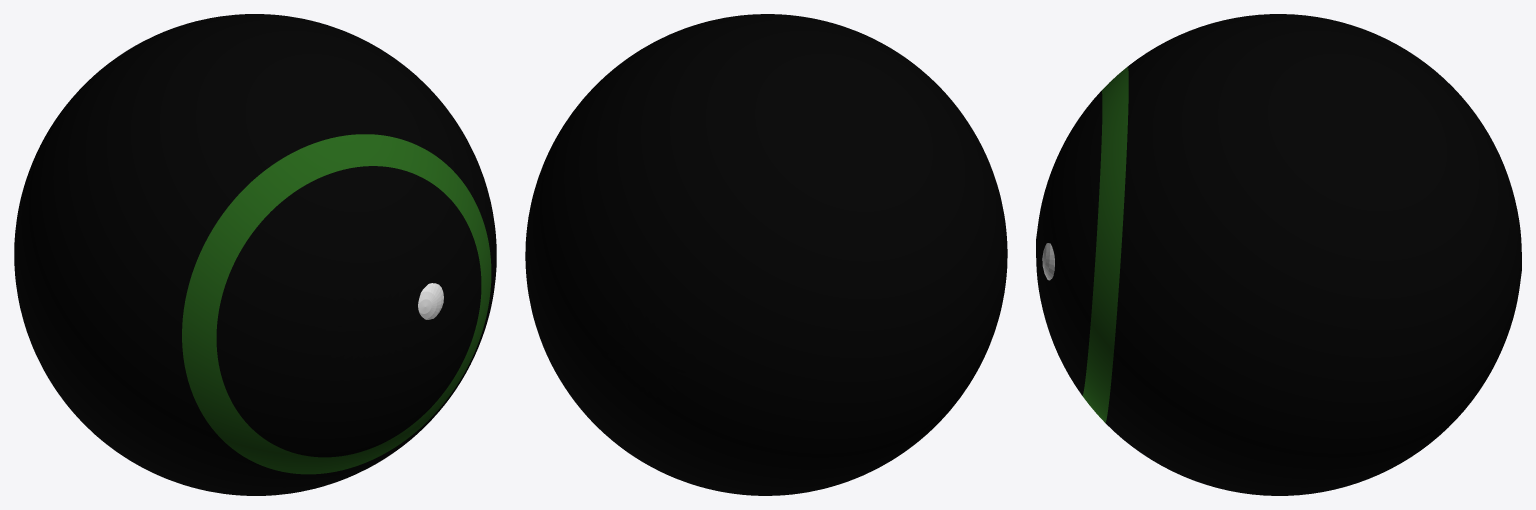
The model's file is cat-eye-right.glb.
3 renders of one model, left to right at view 1: azimuth 30°, elevation 25°; view 2: azimuth 150°, elevation 25°; view 3: azimuth 270°, elevation 25°, orthographic.
Visible parts, largest first — view 1: kitten eye right, kitten eye right white; view 2: kitten eye right; view 3: kitten eye right.
Boxes of the visible parts, <box> form: kitten eye right: <box>14,14,496,495</box>; kitten eye right white: <box>418,283,443,319</box>; kitten eye right: <box>525,14,1007,495</box>; kitten eye right: <box>1036,14,1521,495</box>.
Bounding box in the file's own units: 1.97 × 1.97 × 1.99.
